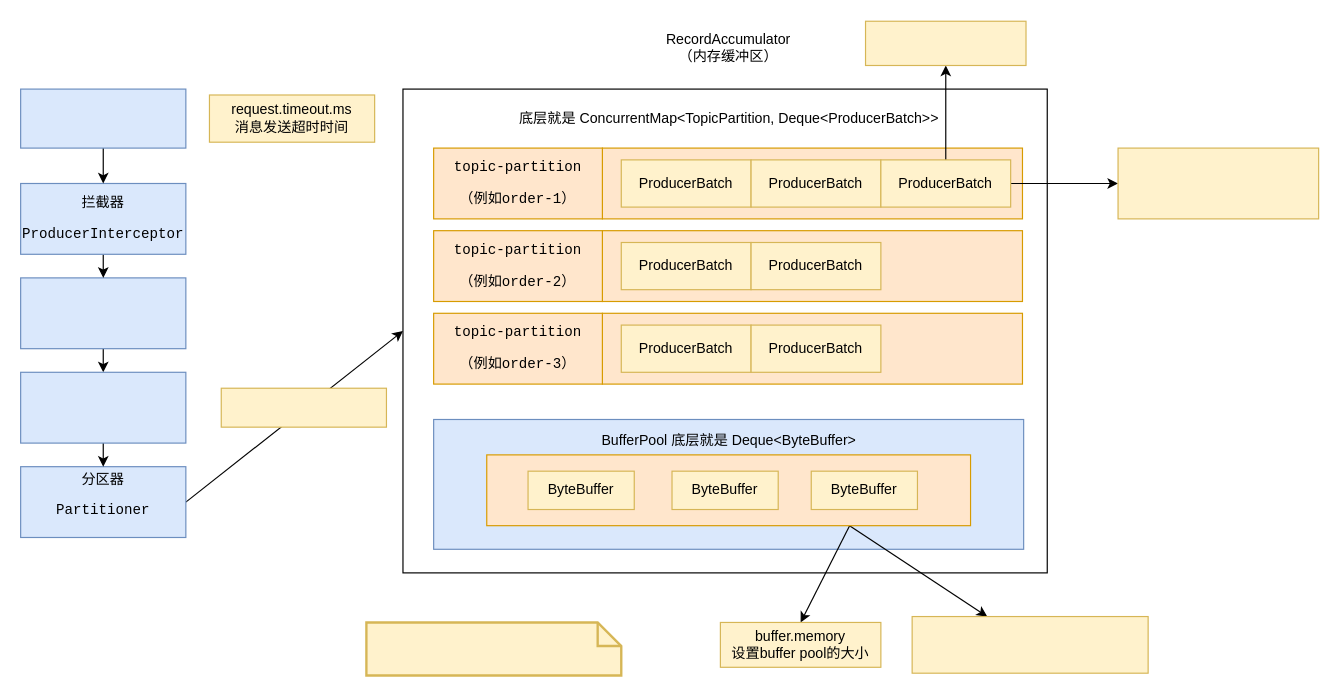
This 1339x696 diagram has some shape labels left out. The shapes that lost their labels are listed below. From the top down, each one's box as (x1, y1, x2, y2) in pixels, then its label:
(864, 20, 1026, 65): batch.size 设置batch的大小
(19, 88, 186, 148): 发送消息 KafkaProducer.send
(1117, 147, 1319, 219): linger.ms 超过linger.ms指定的时间，batch还没满，也会被发送出去
(19, 277, 186, 349): 拉取元数据
(19, 371, 186, 443): 序列化器 Serializer
(220, 387, 386, 427): 单个消息大小不能超过 max.request.size
(365, 621, 622, 676): Producer 主线程
(911, 615, 1148, 673): max.block.ms buffer pool没有剩余空间时，producer阻塞等待的时间
